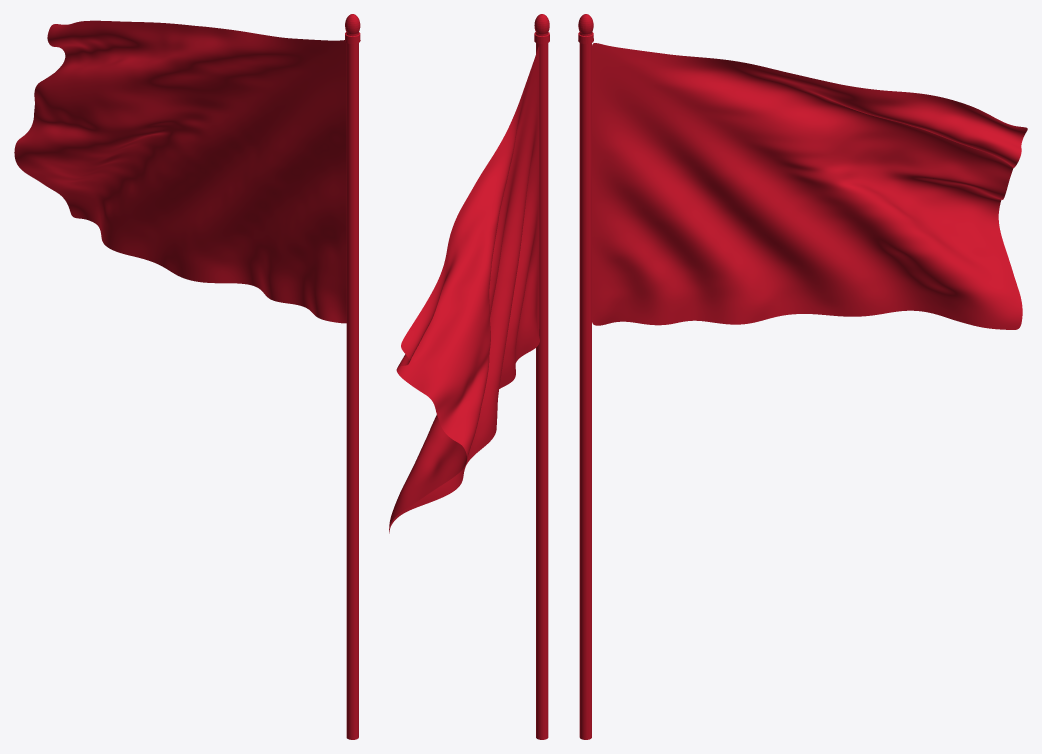
File: red_flag.glb
The picture shows the model from 3 angles, left to right: view 1: azimuth 30°, elevation 25°; view 2: azimuth 150°, elevation 25°; view 3: azimuth 270°, elevation 25°; orthographic projection.
Parts seen in each view (by area): view 1: steag, stick; view 2: steag, stick; view 3: steag, stick.
Part boxes in pixels (x1,y1,x2,y2): steag: (14, 20, 346, 323); stick: (345, 14, 360, 739); steag: (389, 47, 539, 533); stick: (534, 14, 549, 739); steag: (592, 43, 1027, 329); stick: (578, 14, 593, 739).
Size of the model in its own units: 0.4066 by 2.03 by 1.14.
